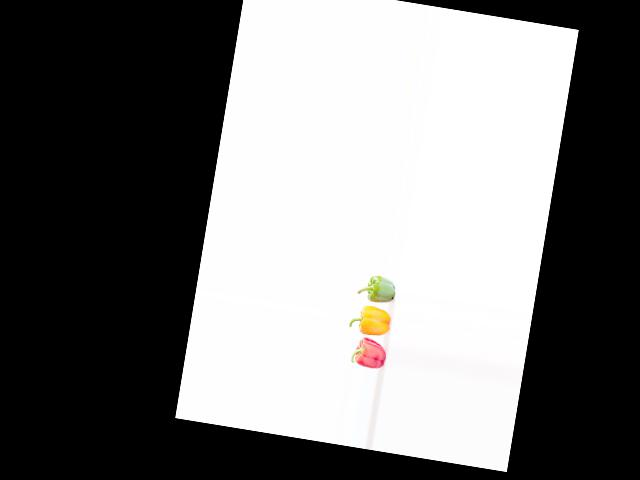bell_pepper: (342, 334, 387, 372)
